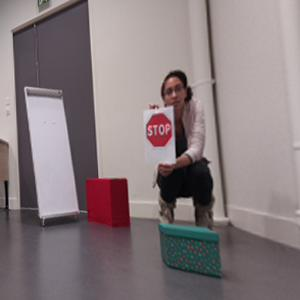stop: (146, 113, 173, 148)
